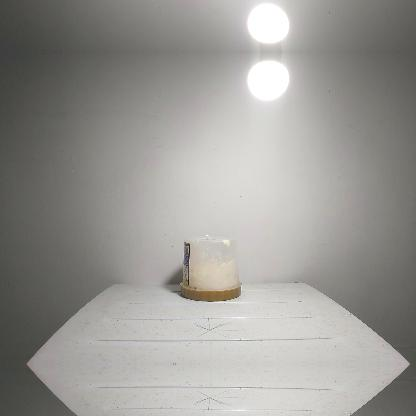Lady-s-Choice: (178, 233, 242, 302)
